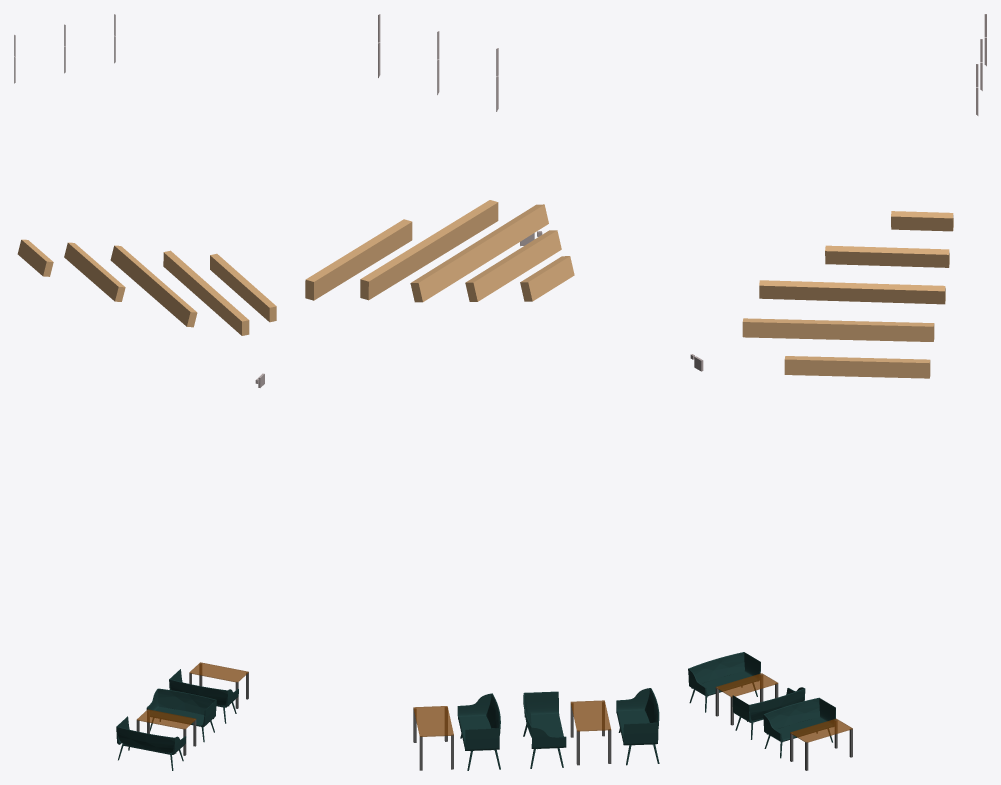
3 views of the same model, side by side, from view 1: azimuth 30°, elevation 25°; view 2: azimuth 150°, elevation 25°; view 3: azimuth 270°, elevation 25° (orthographic). The views are drawn at different scales.
Parts seen in each view (by area): view 1: 4, 0, 1, 2; view 2: 4, 0, 1, 2, 3; view 3: 4, 0, 1, 2, 3.
Part boxes in pixels (x1,y1,x2,y2): 4: [17, 239, 276, 335]; 0: [116, 669, 238, 770]; 1: [136, 662, 248, 729]; 2: [136, 663, 248, 755]; 4: [305, 200, 574, 302]; 0: [457, 688, 659, 770]; 1: [413, 700, 611, 736]; 2: [413, 701, 611, 770]; 3: [378, 14, 542, 246]; 4: [742, 211, 953, 378]; 0: [688, 652, 835, 758]; 1: [715, 673, 852, 742]; 2: [715, 674, 852, 770]; 3: [690, 14, 986, 371].
Size of the model in its own units: 4.98 by 15.82 by 6.31.
